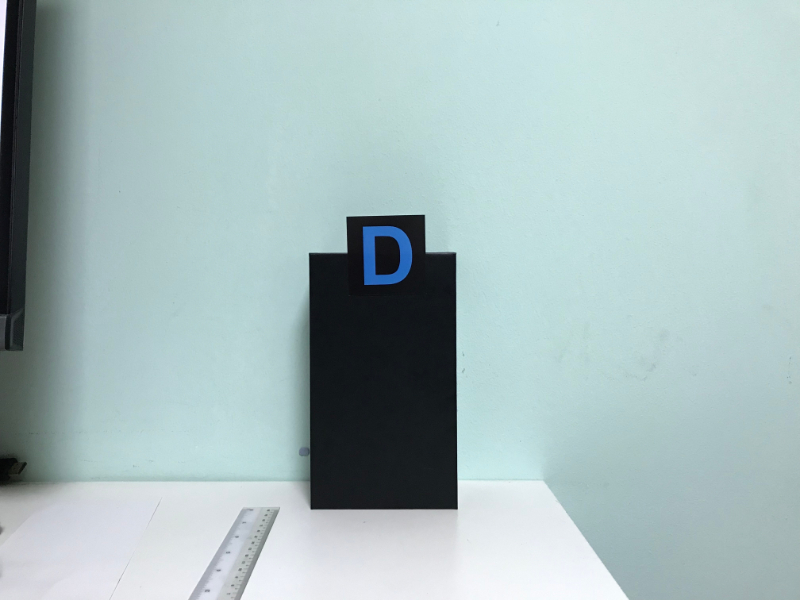D-14: (350, 219, 424, 294)
